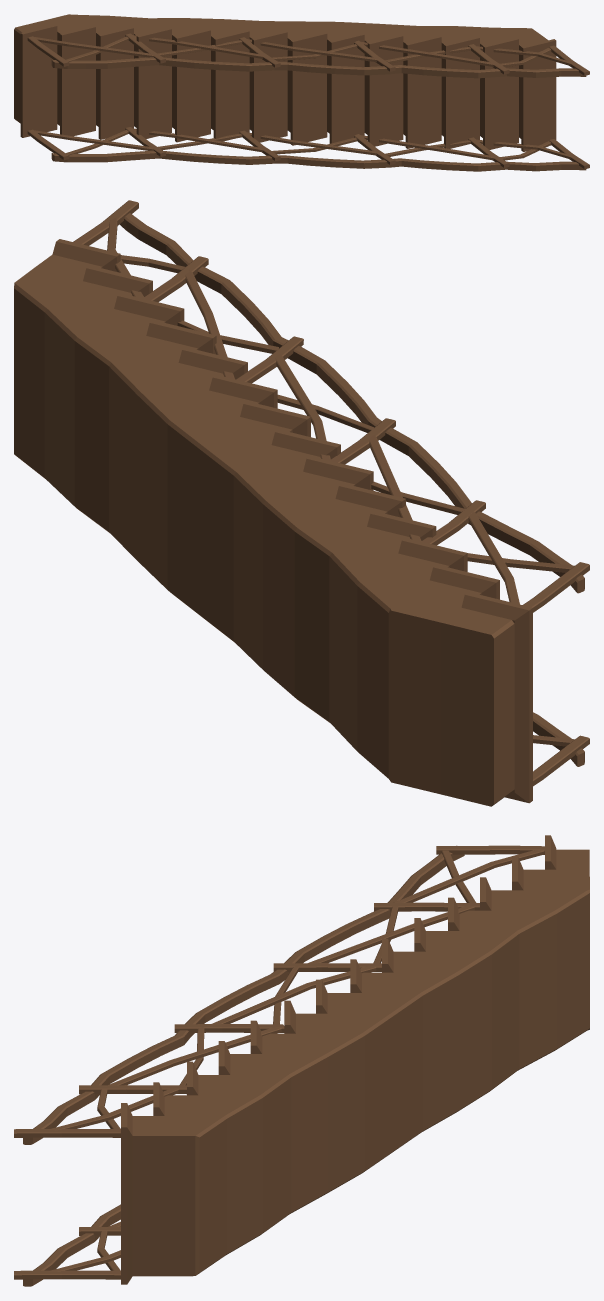
Rendered from Stair_04.fbx.
The picture shows the model from 3 angles, top to bottom: view 1: azimuth 30°, elevation 25°; view 2: azimuth 150°, elevation 25°; view 3: azimuth 270°, elevation 25°; orthographic projection. The views are drawn at different scales.
Visible parts, largest first — view 1: escaliers plein; view 2: escaliers plein; view 3: escaliers plein.
Boxes of the visible parts, <box> form: escaliers plein: <box>14,14,589,171</box>; escaliers plein: <box>14,200,589,806</box>; escaliers plein: <box>14,835,589,1286</box>.
Size of the model in its own units: 383 by 98.34 by 319.
